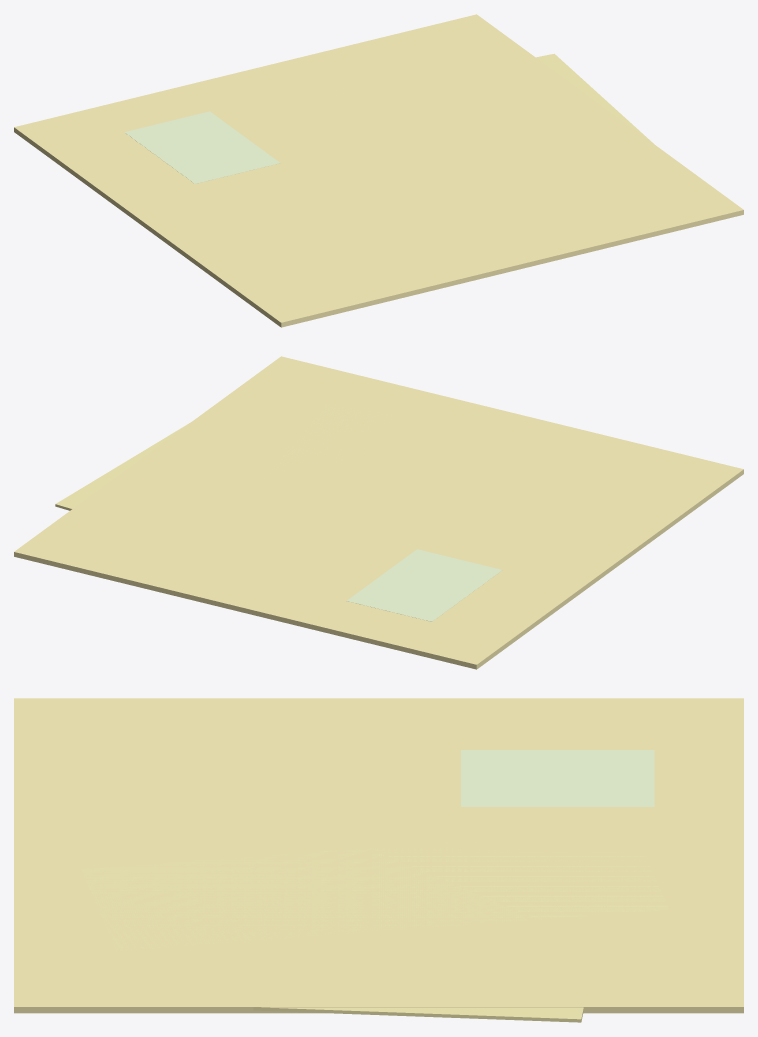
The model's file is road_workzone_temporary_access_pad.glb.
3 renders of one model, top to bottom at view 1: azimuth 30°, elevation 25°; view 2: azimuth 150°, elevation 25°; view 3: azimuth 270°, elevation 25°, orthographic. The views are drawn at different scales.
Parts seen in each view (by area): view 1: base, steel_plate, gravel_windrow; view 2: base, steel_plate, access_pad, gravel_windrow; view 3: base, access_pad, steel_plate, gravel_windrow.
Part boxes in pixels (<box>): base: <box>14,14,743,327</box>; steel_plate: <box>124,111,280,183</box>; gravel_windrow: <box>536,53,653,143</box>; base: <box>14,356,743,669</box>; steel_plate: <box>347,549,502,621</box>; access_pad: <box>245,404,455,586</box>; gravel_windrow: <box>55,423,189,510</box>; base: <box>14,698,743,1013</box>; access_pad: <box>81,830,668,950</box>; steel_plate: <box>461,750,654,806</box>; gravel_windrow: <box>253,1007,583,1022</box>.
Size of the model in its own units: 4.16 by 0.041 by 4.
